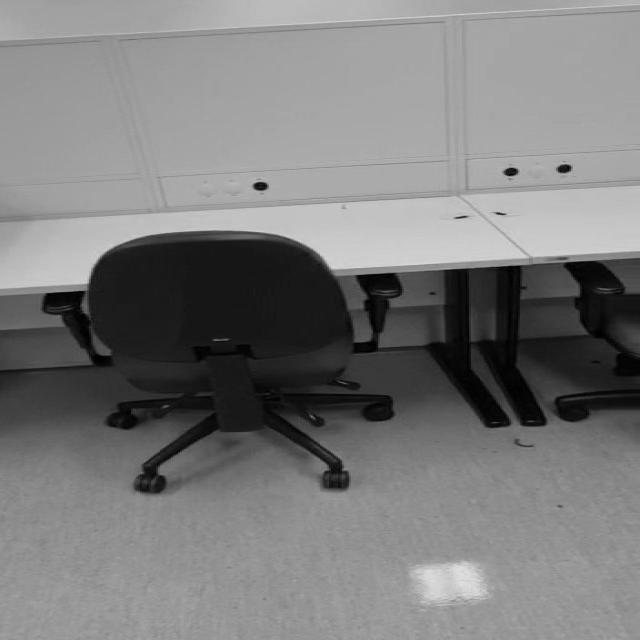cadeira-azul: (43, 229, 403, 493)
